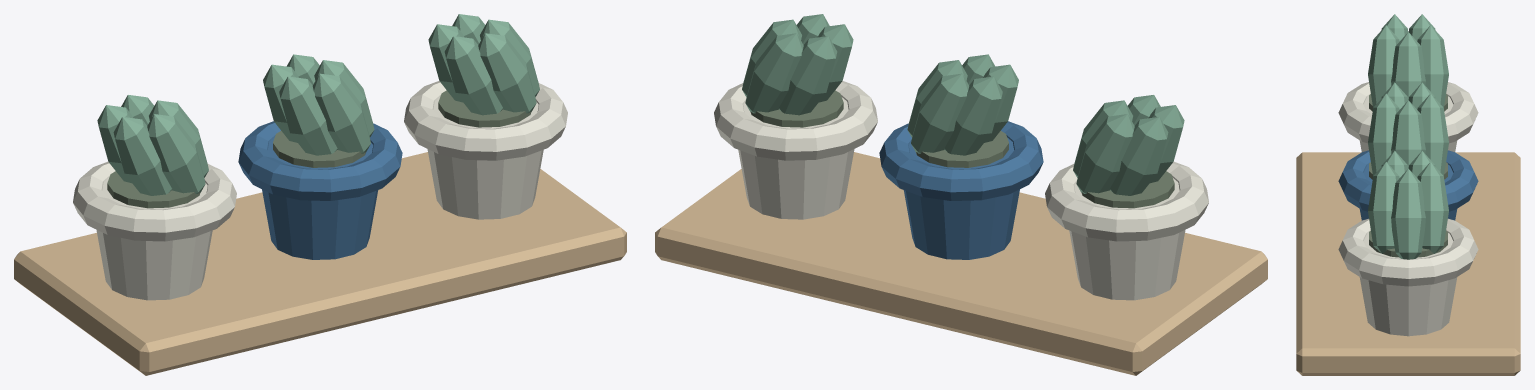
The model's file is succulent_display_tray.glb.
3 views of the same model, side by side, from view 1: azimuth 30°, elevation 25°; view 2: azimuth 150°, elevation 25°; view 3: azimuth 270°, elevation 25° (orthographic). The views are drawn at different scales.
Parts seen in each view (by area): view 1: tray, succulent_leaf (×15), succulent_lip (×3), succulent_pot (×3), succulent_soil (×3); view 2: tray, succulent_leaf (×15), succulent_lip (×3), succulent_pot (×3), succulent_soil (×3); view 3: tray, succulent_leaf (×15), succulent_lip (×3), succulent_pot (×3), succulent_soil.
Boxes of the visible parts, box(x1,y1,x2,y2) form: tray: box(14, 152, 626, 375); succulent_leaf (×15): box(97, 14, 539, 195); succulent_lip (×3): box(73, 81, 567, 241); succulent_pot (×3): box(96, 97, 543, 300); succulent_soil (×3): box(107, 90, 531, 208); tray: box(655, 152, 1267, 375); succulent_leaf (×15): box(742, 14, 1184, 195); succulent_lip (×3): box(714, 81, 1208, 241); succulent_pot (×3): box(738, 97, 1185, 300); succulent_soil (×3): box(750, 90, 1174, 208); tray: box(1296, 152, 1520, 375); succulent_leaf (×15): box(1368, 14, 1448, 259); succulent_lip (×3): box(1338, 82, 1478, 286); succulent_pot (×3): box(1359, 96, 1457, 336); succulent_soil: box(1369, 230, 1447, 257).
Size of the model in its own units: 0.53 by 0.2198 by 0.25.
